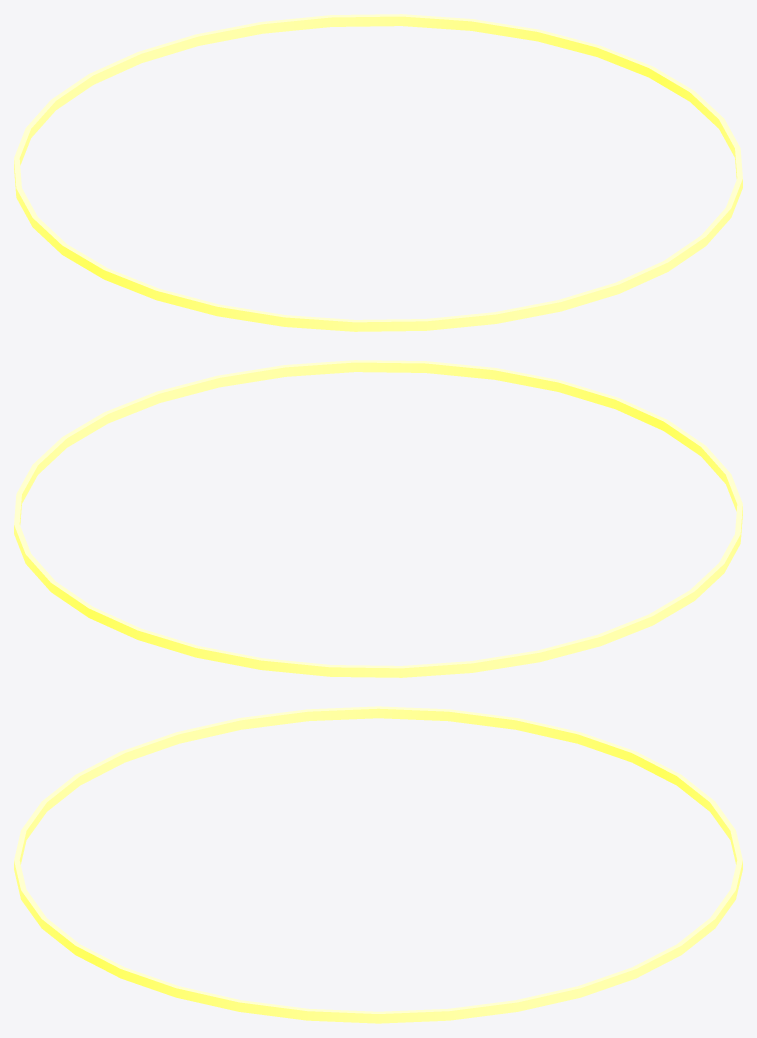
3 renders of one model, top to bottom at view 1: azimuth 30°, elevation 25°; view 2: azimuth 150°, elevation 25°; view 3: azimuth 270°, elevation 25°, orthographic.
Parts seen in each view (by area): view 1: Circle3; view 2: Circle3; view 3: Circle3.
Part boxes in pixels (left/top/right/bottom): Circle3: left=14, top=14, right=742, bottom=331; Circle3: left=14, top=360, right=742, bottom=677; Circle3: left=14, top=706, right=742, bottom=1023.
Bounding box in the file's own units: 7.26 × 0.1045 × 7.27.
